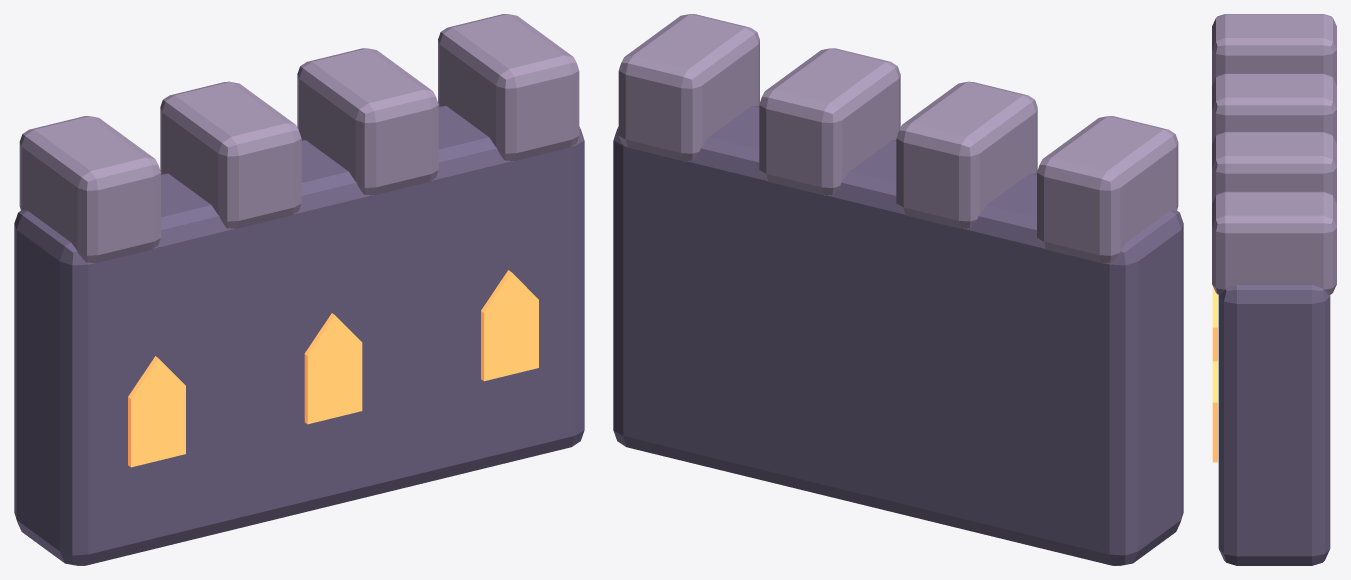
File: ember_rampart.glb
3 renders of one model, left to right at view 1: azimuth 30°, elevation 25°; view 2: azimuth 150°, elevation 25°; view 3: azimuth 270°, elevation 25°, orthographic. The views are drawn at different scales.
Visible parts, largest first — view 1: Wall, Crenel, Crenel.001, Crenel.003, Crenel.002, EmberRecess.001, EmberRecess, EmberRecess.002; view 2: Wall, Crenel, Crenel.001, Crenel.003, Crenel.002; view 3: Wall, Crenel.003, Crenel, Crenel.002, Crenel.001, EmberRecess.002, EmberRecess.001.
Boxes of the visible parts, left/top/right/bottom form: Wall: left=14, top=106, right=584, bottom=565; Crenel: left=19, top=116, right=160, bottom=263; Crenel.001: left=160, top=81, right=301, bottom=228; Crenel.003: left=438, top=14, right=579, bottom=161; Crenel.002: left=297, top=48, right=438, bottom=195; EmberRecess.001: left=304, top=313, right=362, bottom=424; EmberRecess: left=128, top=356, right=185, bottom=467; EmberRecess.002: left=481, top=270, right=538, bottom=381; Wall: left=613, top=106, right=1183, bottom=565; Crenel: left=1037, top=116, right=1178, bottom=263; Crenel.001: left=896, top=81, right=1037, bottom=228; Crenel.003: left=618, top=14, right=759, bottom=161; Crenel.002: left=759, top=48, right=900, bottom=195; Wall: left=1218, top=285, right=1330, bottom=565; Crenel.003: left=1212, top=191, right=1336, bottom=294; Crenel: left=1212, top=14, right=1336, bottom=85; Crenel.002: left=1212, top=132, right=1336, bottom=203; Crenel.001: left=1212, top=73, right=1336, bottom=143; EmberRecess.002: left=1212, top=361, right=1217, bottom=462; EmberRecess.001: left=1212, top=286, right=1217, bottom=361.
Size of the model in its own units: 8 by 5.83 by 1.9.
